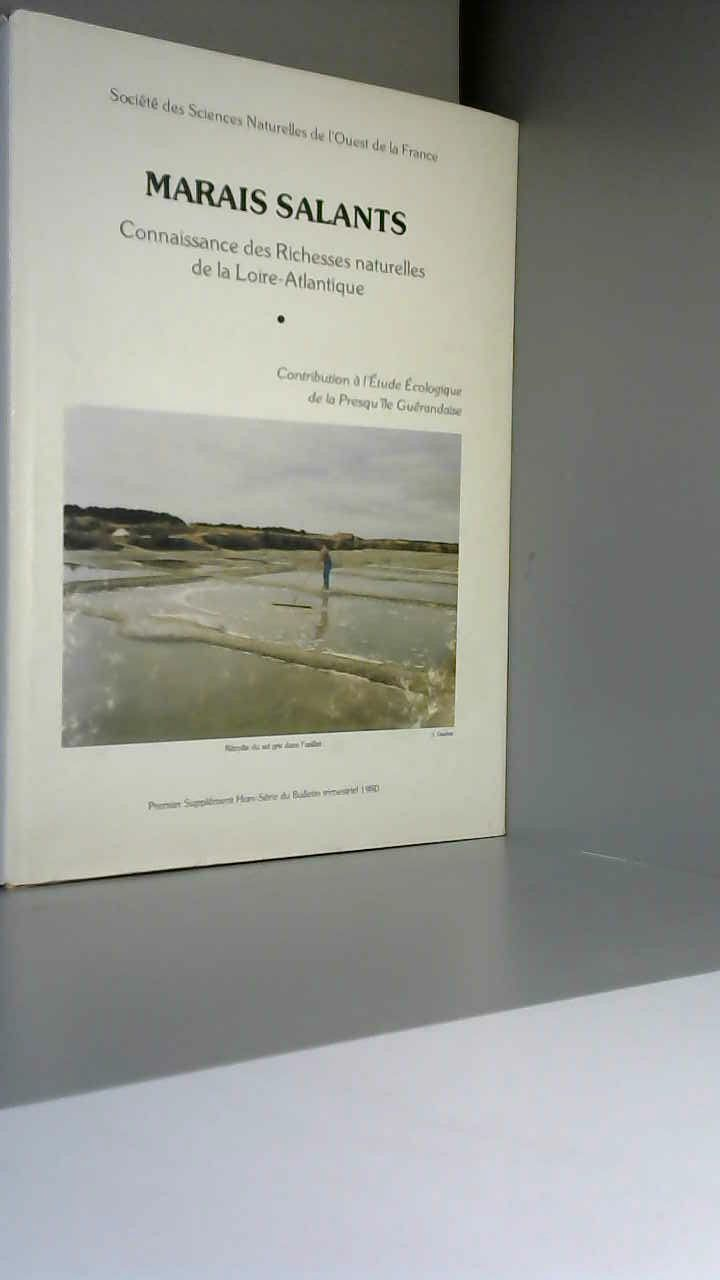book: (0, 0, 561, 906)
